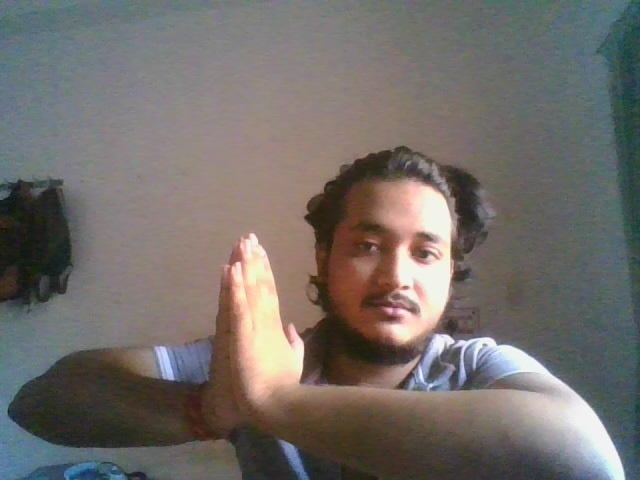ThankYou: (212, 232, 305, 427)
